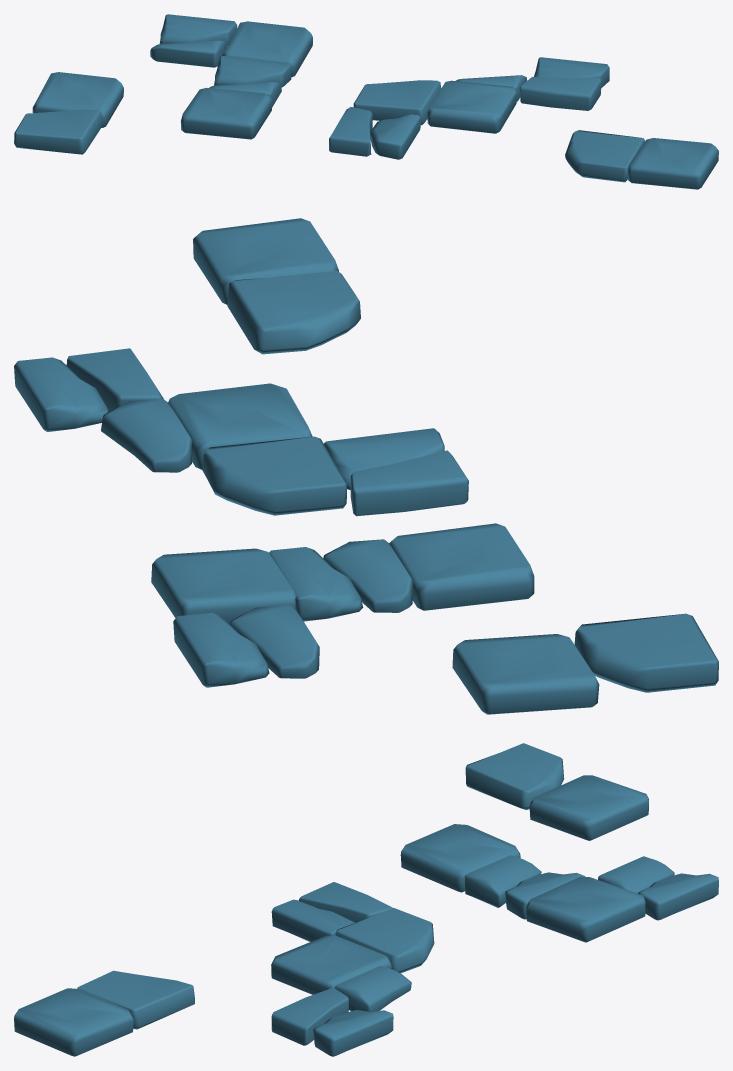
File: Pavement_Grp_06_Lod0.fbx
3 renders of one model, top to bottom at view 1: azimuth 30°, elevation 25°; view 2: azimuth 150°, elevation 25°; view 3: azimuth 270°, elevation 25°, orthographic. The views are drawn at different scales.
Visible parts, largest first — view 1: Pavement_Grp_06_Lod0; view 2: Pavement_Grp_06_Lod0; view 3: Pavement_Grp_06_Lod0.
Boxes of the visible parts, x1,y1,x2,y2 form: Pavement_Grp_06_Lod0: [14, 14, 718, 189]; Pavement_Grp_06_Lod0: [14, 218, 718, 714]; Pavement_Grp_06_Lod0: [14, 743, 718, 1056].
Bounding box in the file's own units: 408 × 20.59 × 409.
